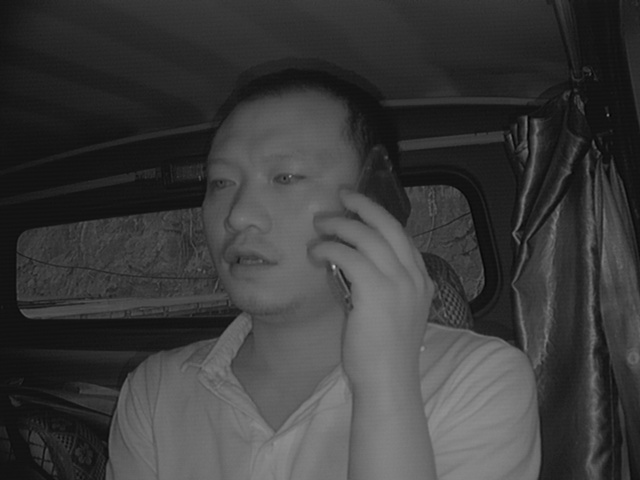hand: (322, 193, 436, 374)
